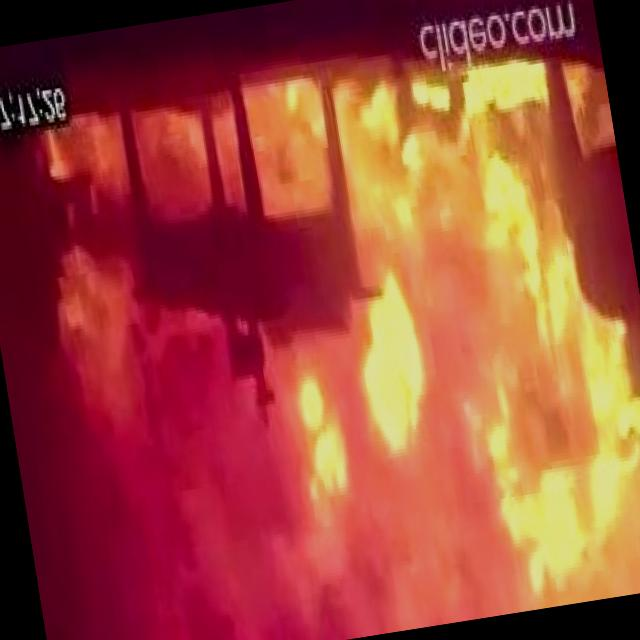fire: (51, 53, 640, 640)
